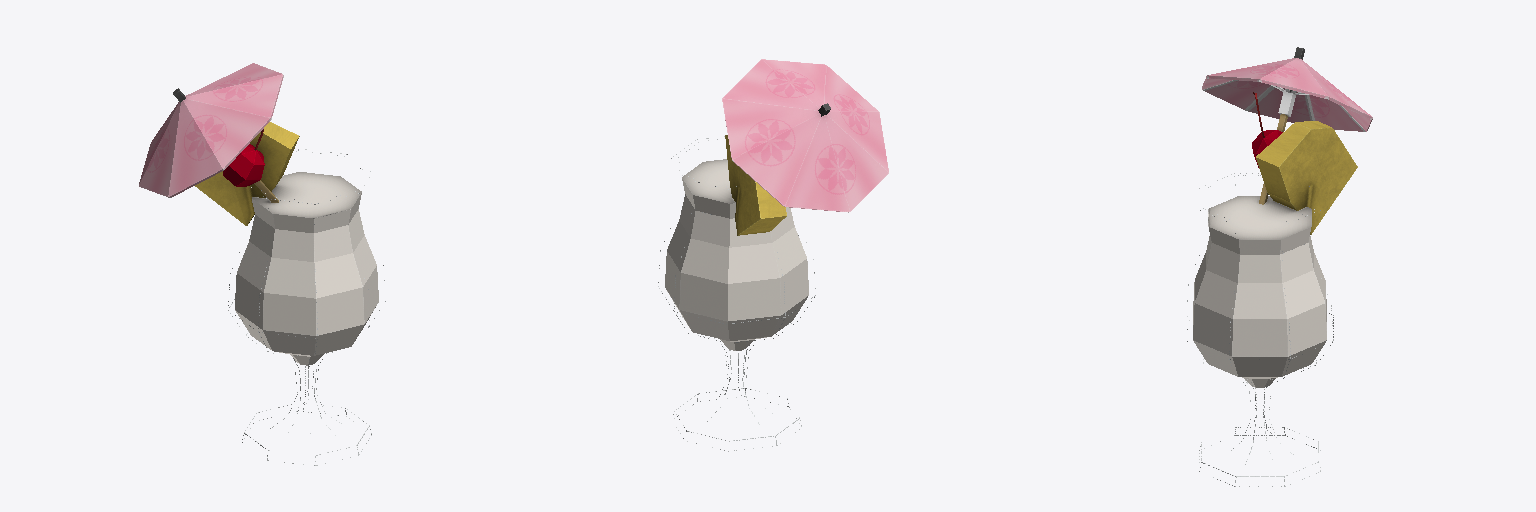
The picture shows the model from 3 angles: view 1: azimuth 30°, elevation 25°; view 2: azimuth 150°, elevation 25°; view 3: azimuth 270°, elevation 25°; orthographic projection.
Visible parts, largest first — view 1: PinaColada_Mesh; view 2: PinaColada_Mesh; view 3: PinaColada_Mesh.
Boxes of the visible parts, x1=… form: PinaColada_Mesh: x1=139, y1=63, x2=385, y2=465; PinaColada_Mesh: x1=658, y1=59, x2=888, y2=451; PinaColada_Mesh: x1=1187, y1=47, x2=1372, y2=486.
Size of the model in its own units: 1.04 by 1.76 by 0.8054.
2 materials, 1 textured.